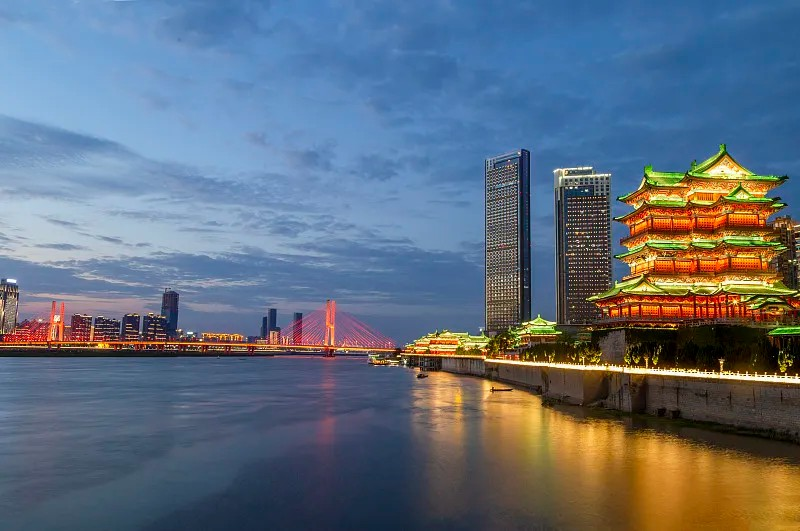Teng: (585, 146, 800, 324)
